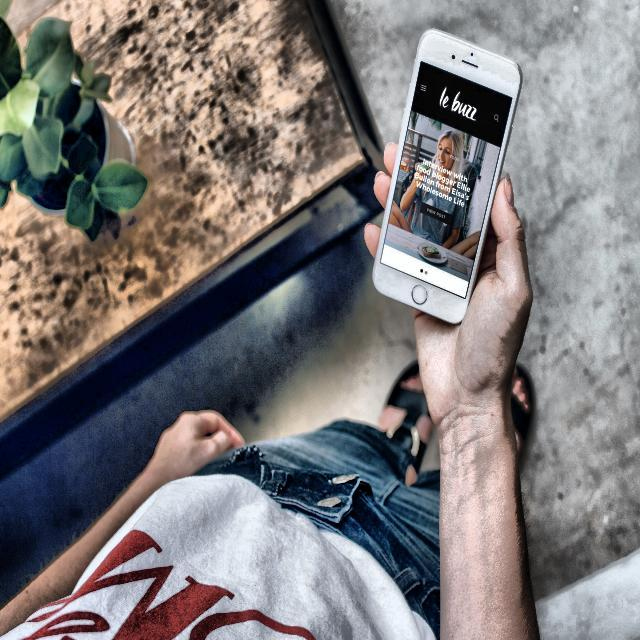Phone: (372, 25, 523, 328)
